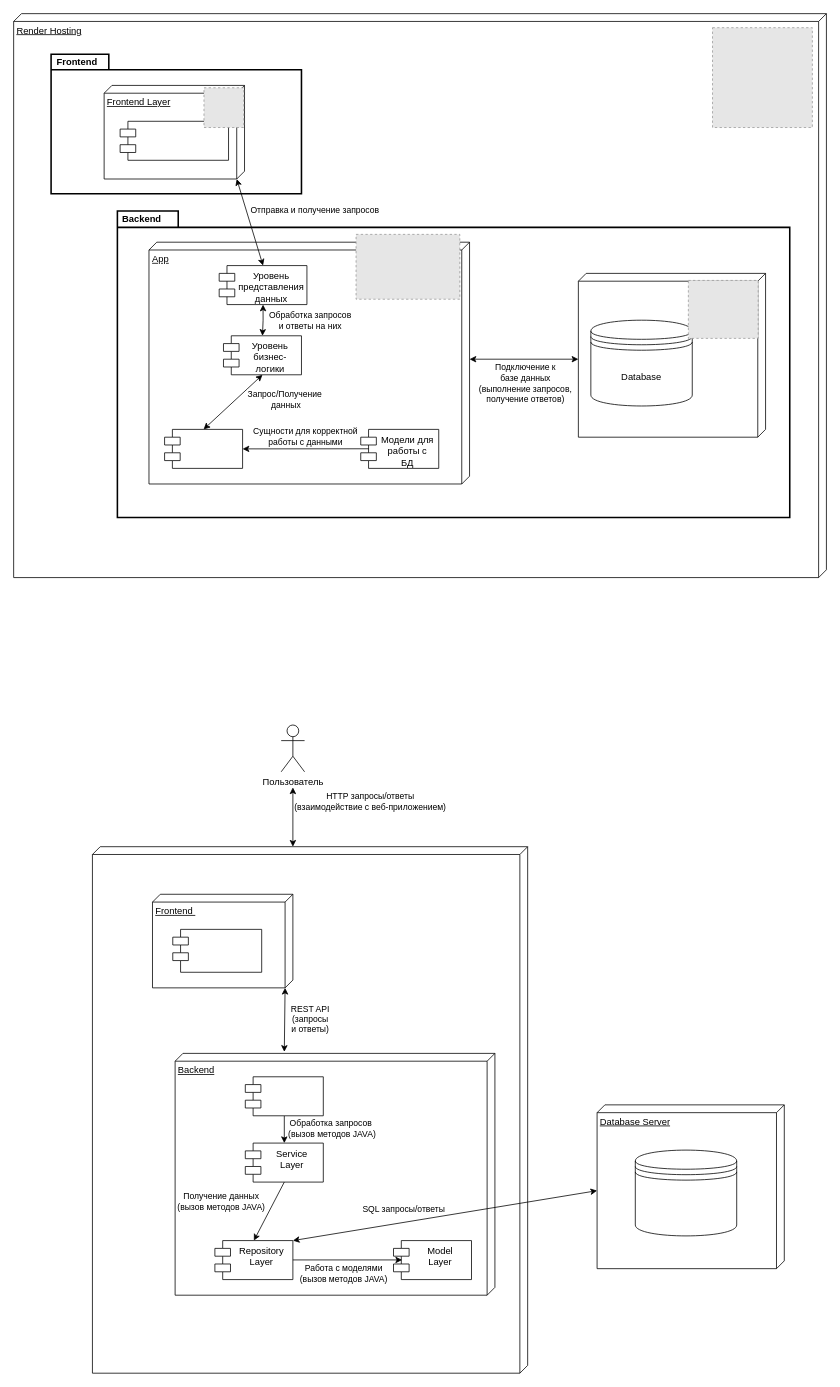
This 840x1387 diagram has some shape labels left out. Grey dashed boxes stand in for pictures. Each missing label, with the box of its shape:
Controller Layer: (245, 1076, 323, 1116)
Database Layer: (578, 273, 766, 437)
HTML with Thymeleaf: (172, 929, 262, 972)
PostresSQL Database: (635, 1149, 737, 1236)
WebServer: (92, 846, 528, 1373)
Пользовательский интерфейс: (119, 121, 229, 160)
Уровень управления данными: (164, 429, 243, 468)
